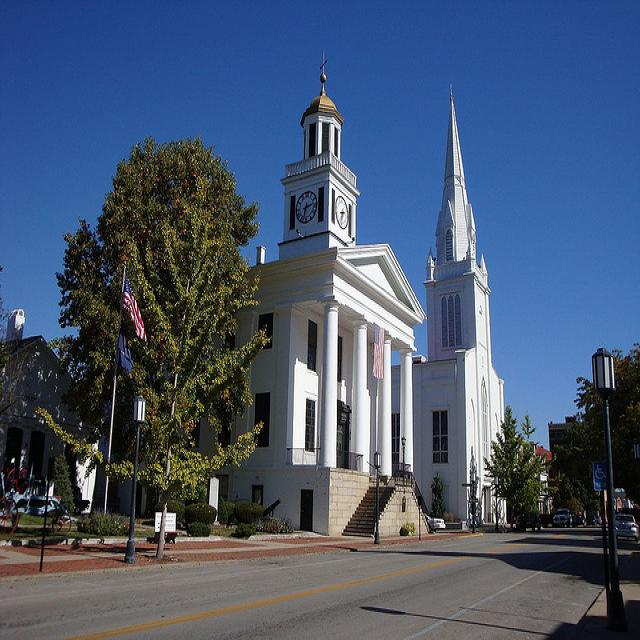Vehicle: (12, 493, 70, 516), (514, 509, 542, 534), (614, 515, 639, 537), (552, 504, 574, 527), (573, 510, 596, 528)
